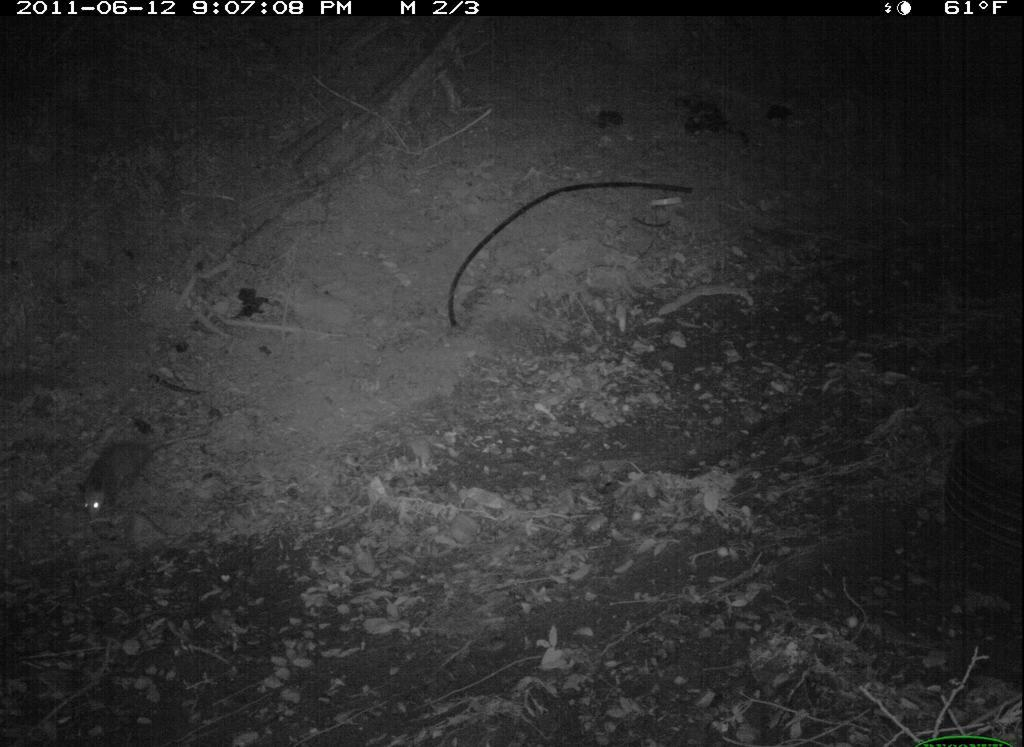opossum: (67, 415, 167, 534)
